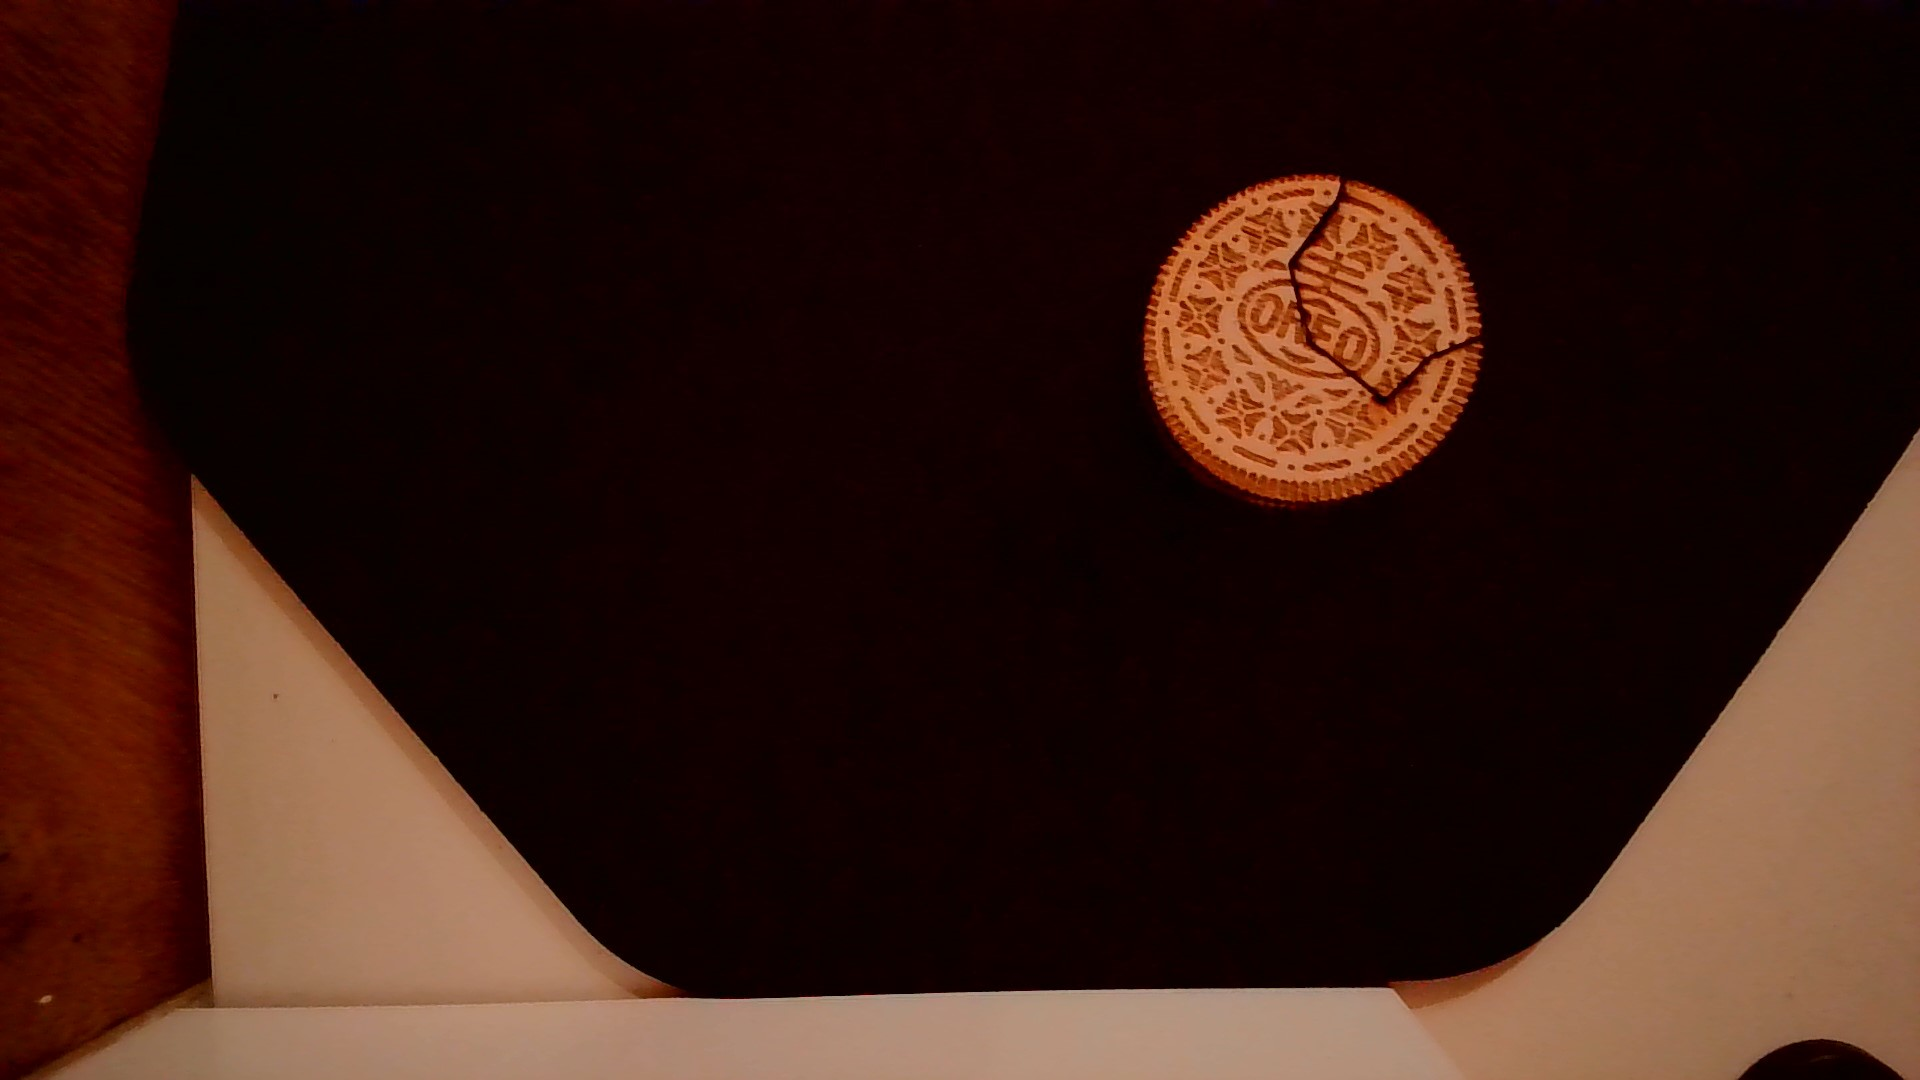Fissure: (1276, 164, 1494, 411)
Oréo: (1134, 169, 1490, 516)
